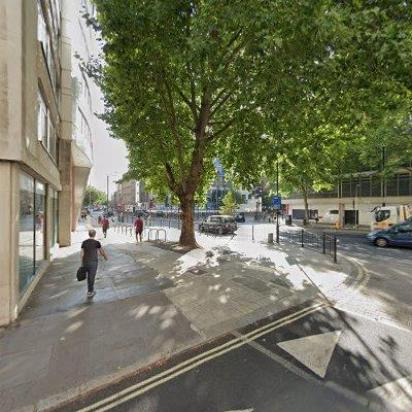moving-car: (364, 218, 412, 252), (198, 214, 238, 236)
moving-heavy-truck: (368, 204, 412, 232)
